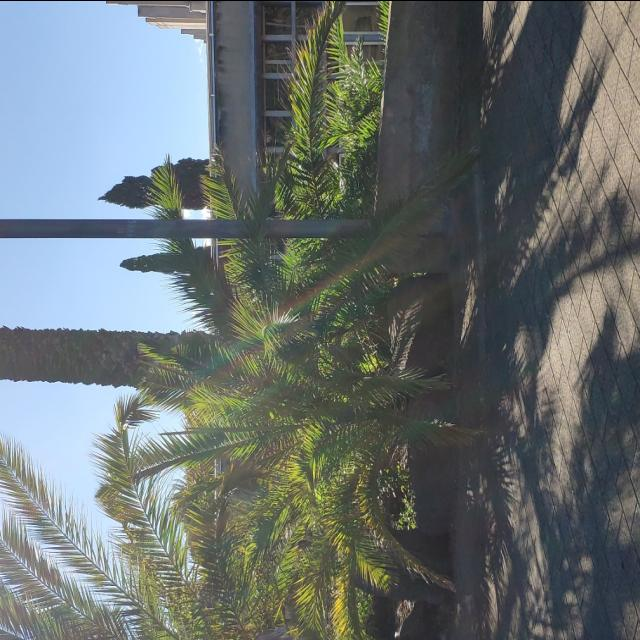Palm-Trees: (158, 193, 410, 611)
